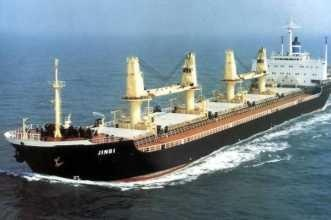Cargoship: (9, 15, 330, 176)
